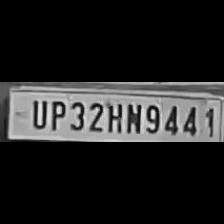1: (200, 104, 216, 138)
2: (86, 99, 104, 134)
3: (67, 98, 85, 132)
4: (178, 102, 198, 136), (162, 101, 178, 135)
9: (142, 102, 160, 134)
H: (105, 100, 123, 134)
N: (124, 100, 140, 136)
P: (47, 97, 65, 131)
U: (27, 97, 46, 130)
